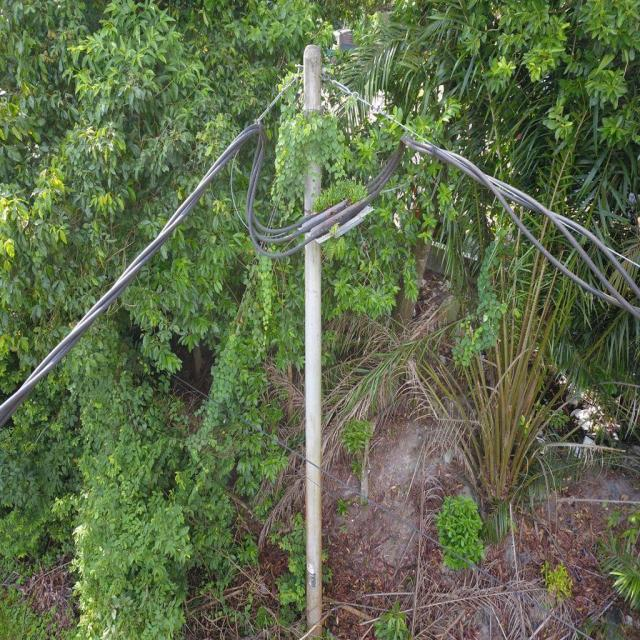critical vegetation: (190, 226, 298, 474), (269, 77, 363, 195)
